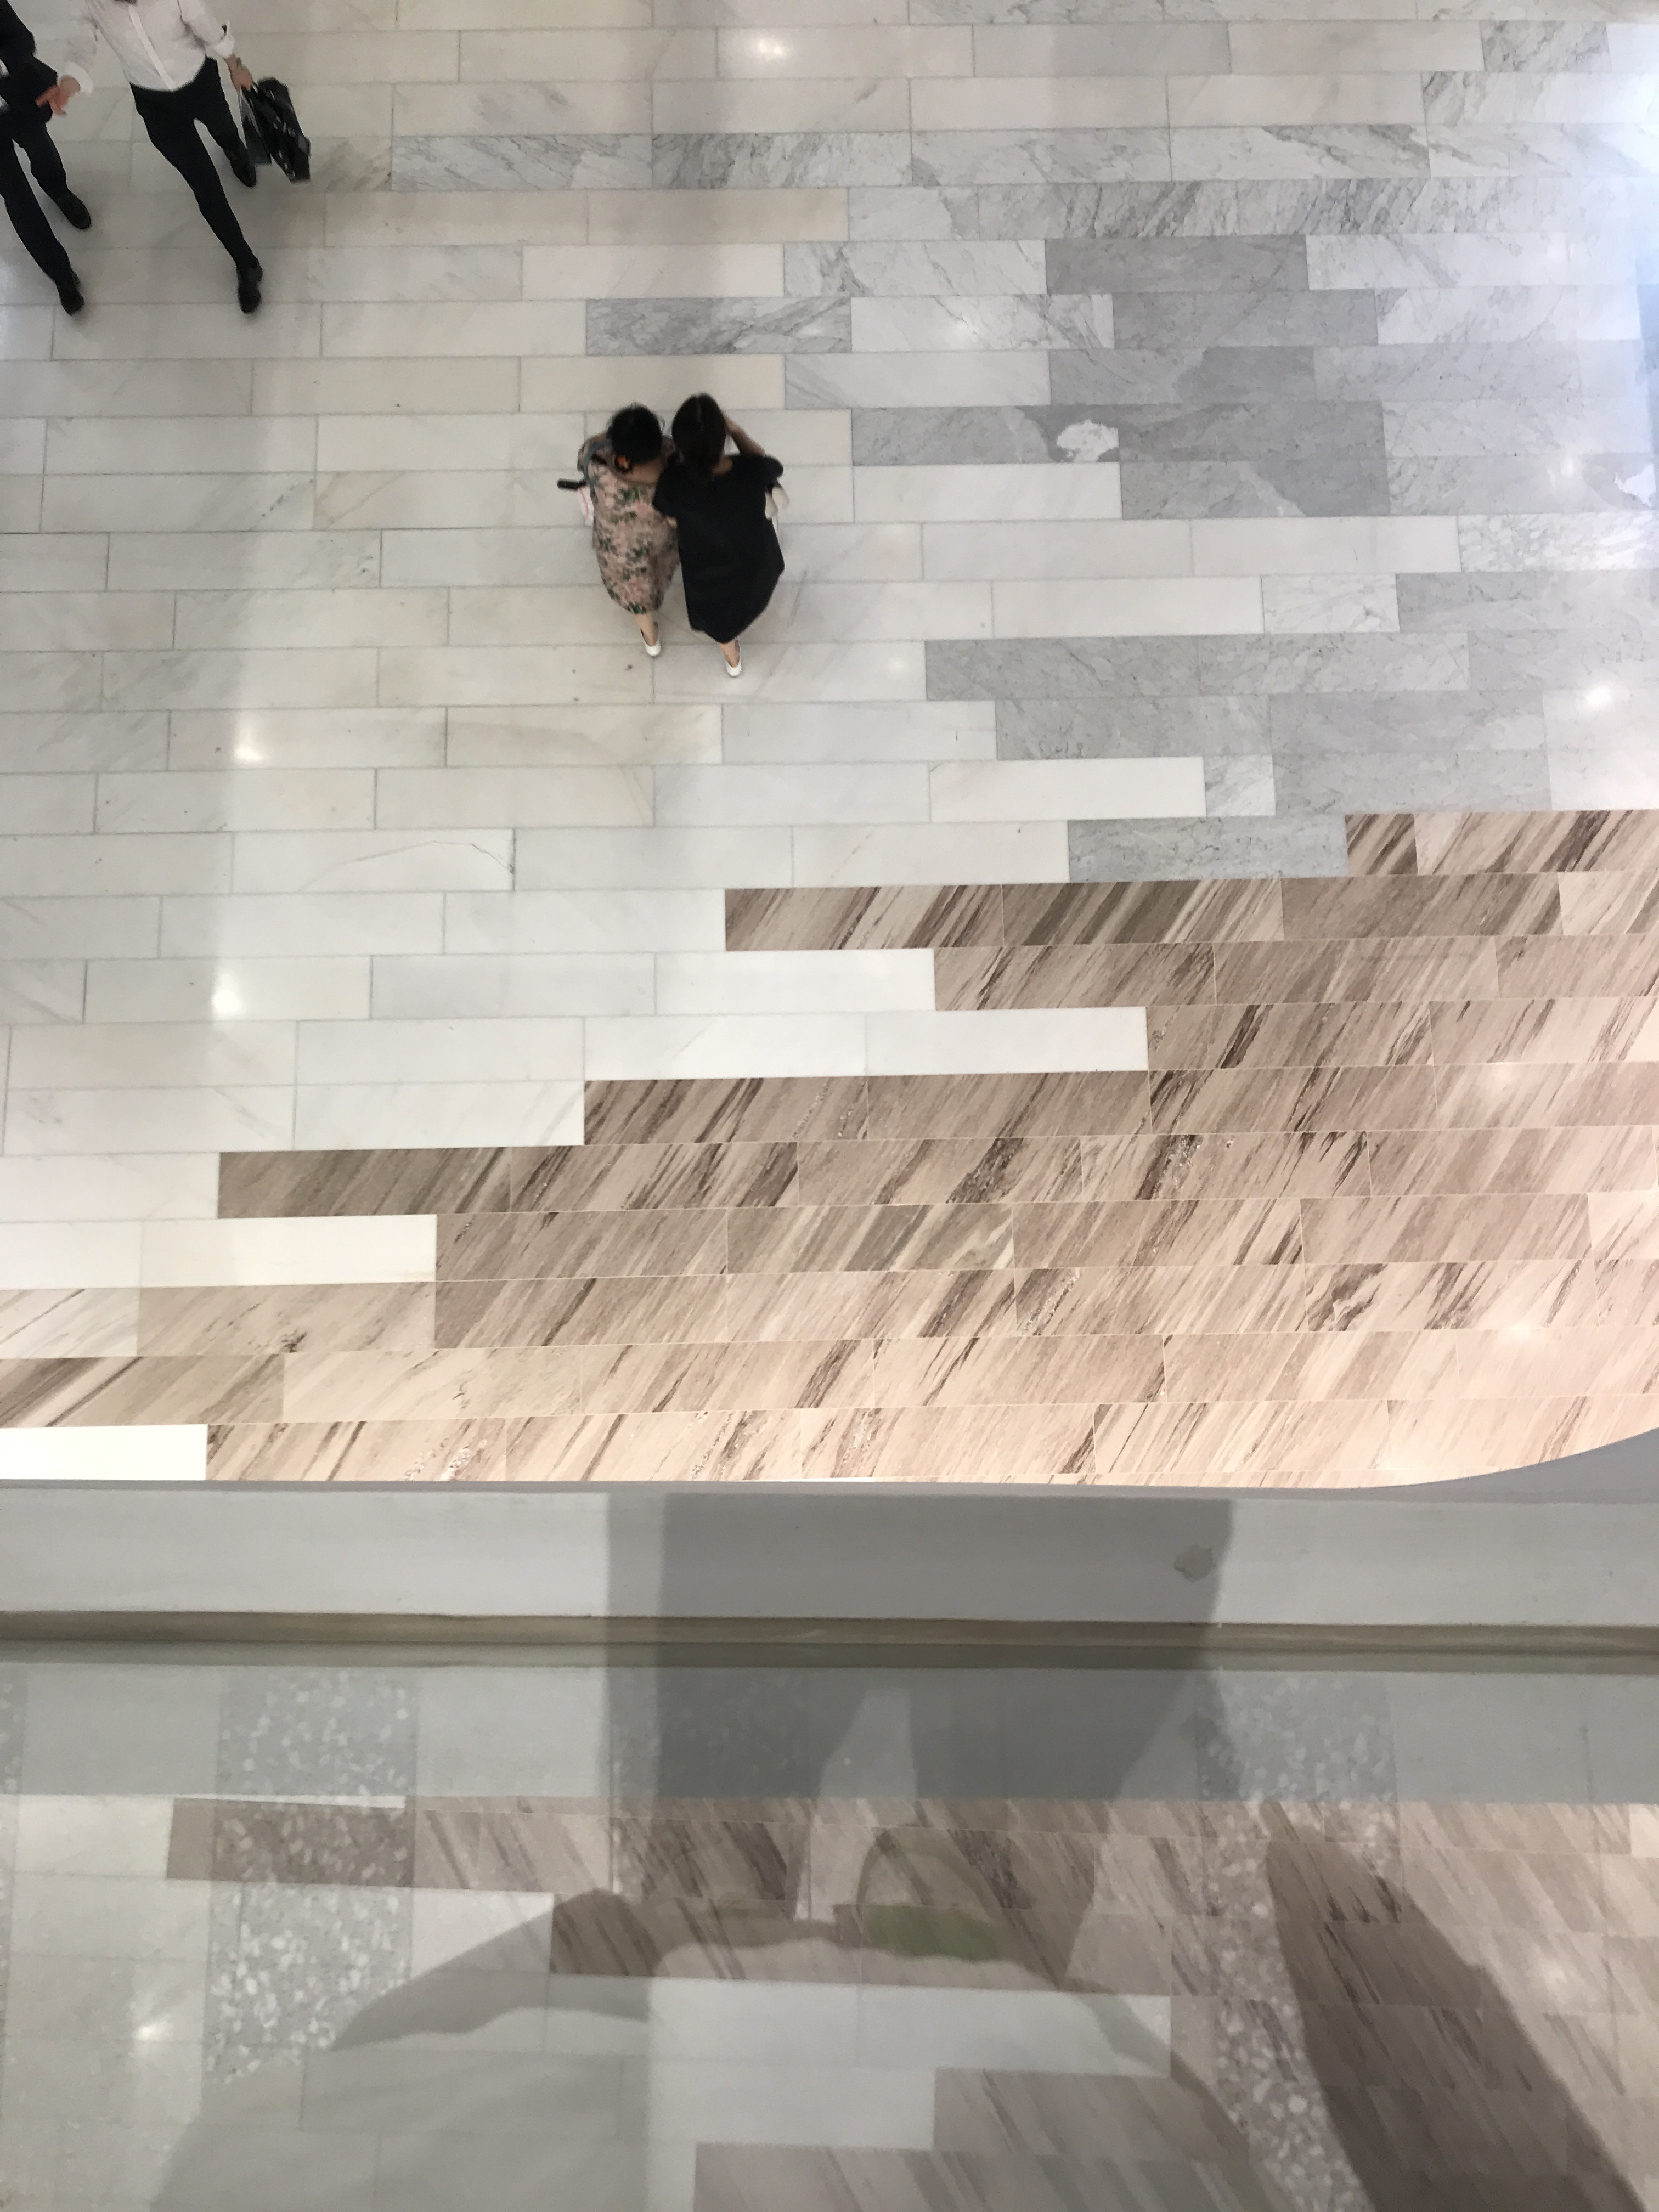person: (33, 1, 317, 319), (651, 395, 794, 684), (548, 399, 686, 659), (1, 1, 93, 319)
